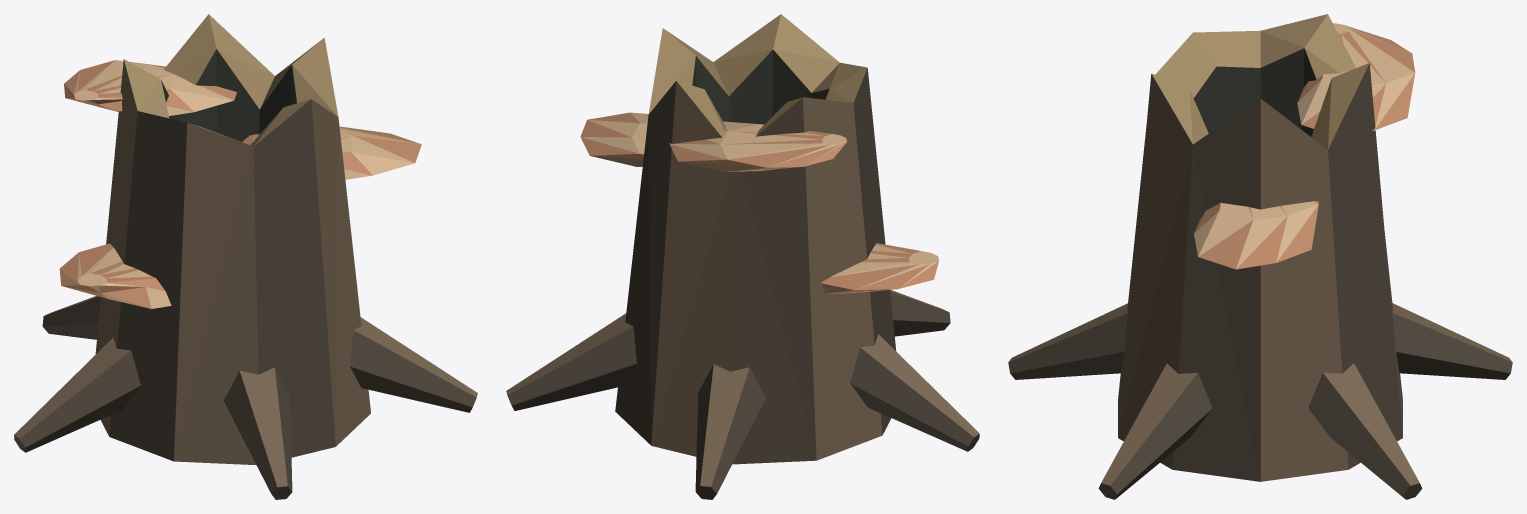
File: AE_Swamp_WitchesStump.fbx
The picture shows the model from 3 angles, left to right: view 1: azimuth 30°, elevation 25°; view 2: azimuth 150°, elevation 25°; view 3: azimuth 270°, elevation 25°; orthographic projection. The views are drawn at different scales.
Parts seen in each view (by area): view 1: AE_Swamp_WitchesStump; view 2: AE_Swamp_WitchesStump; view 3: AE_Swamp_WitchesStump.
Boxes of the visible parts, x1,y1,x2,y2 form: AE_Swamp_WitchesStump: (14,14,477,499); AE_Swamp_WitchesStump: (506,14,979,499); AE_Swamp_WitchesStump: (1008,14,1512,499).
Bounding box in the file's own units: 0.9684 × 0.8195 × 1.01.
